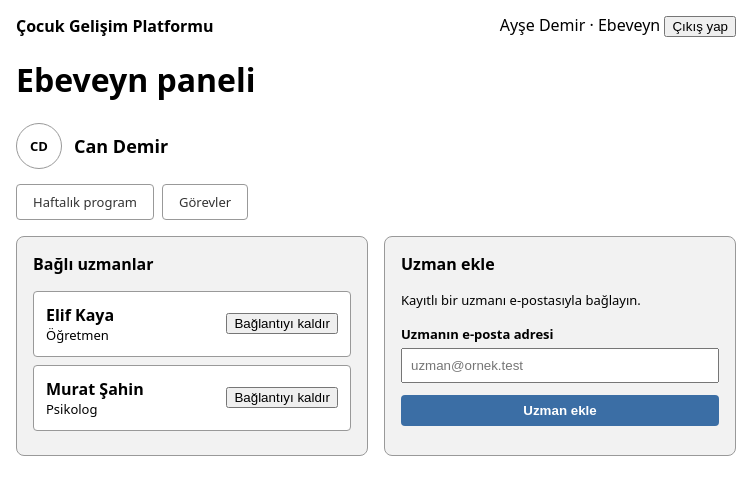
it: ParentDashboard › link form › shows the error of the mockup for an email that is not a specialist (FR-M2-02)
Type "nobody@demo.test" into the field labelled "Uzmanın e-posta adresi" at [560, 365], box [401,348,719,383]
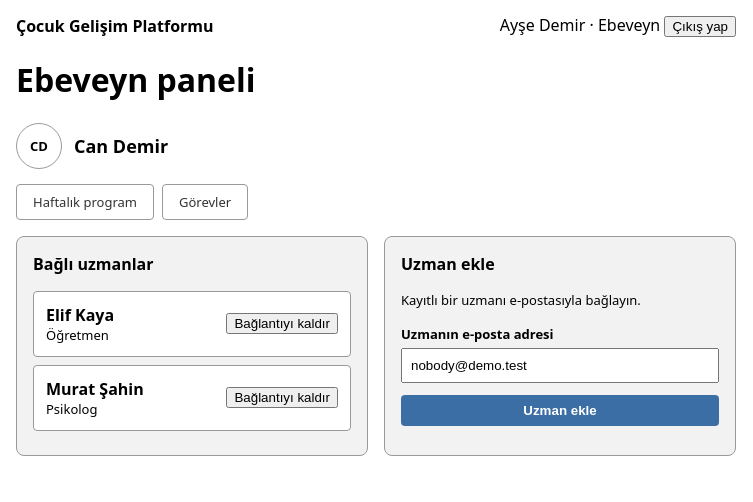
Click the button "Uzman ekle" at [560, 410], box [401,395,719,426]
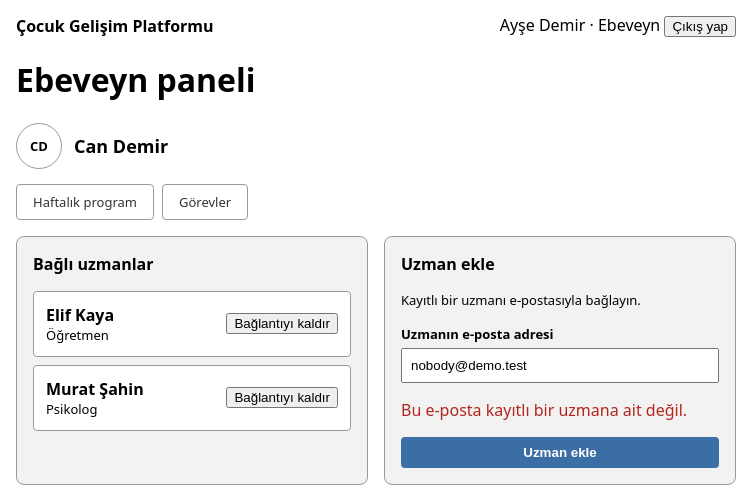
Expected: the number of elements with test id "specialist" is 2, [33,291,351,357]; [33,365,351,431]
Expected: the message reads "Bu e-posta kayıtlı bir uzmana ait değil.", [401,399,687,421]
